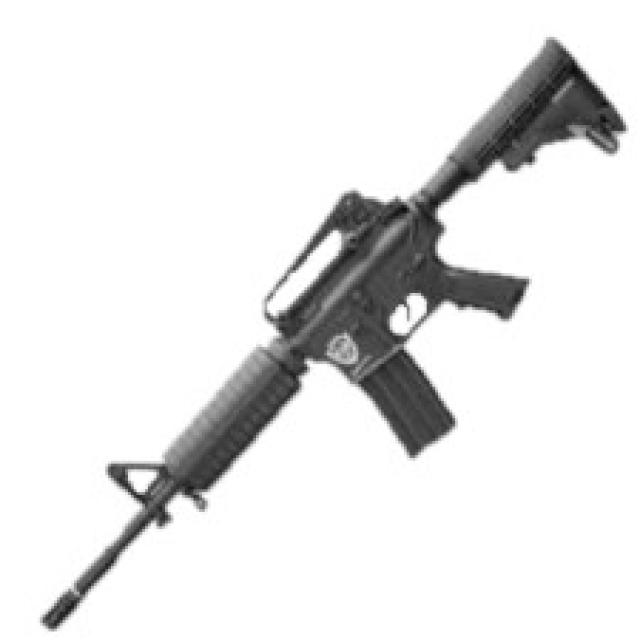rifle: (37, 29, 632, 639)
